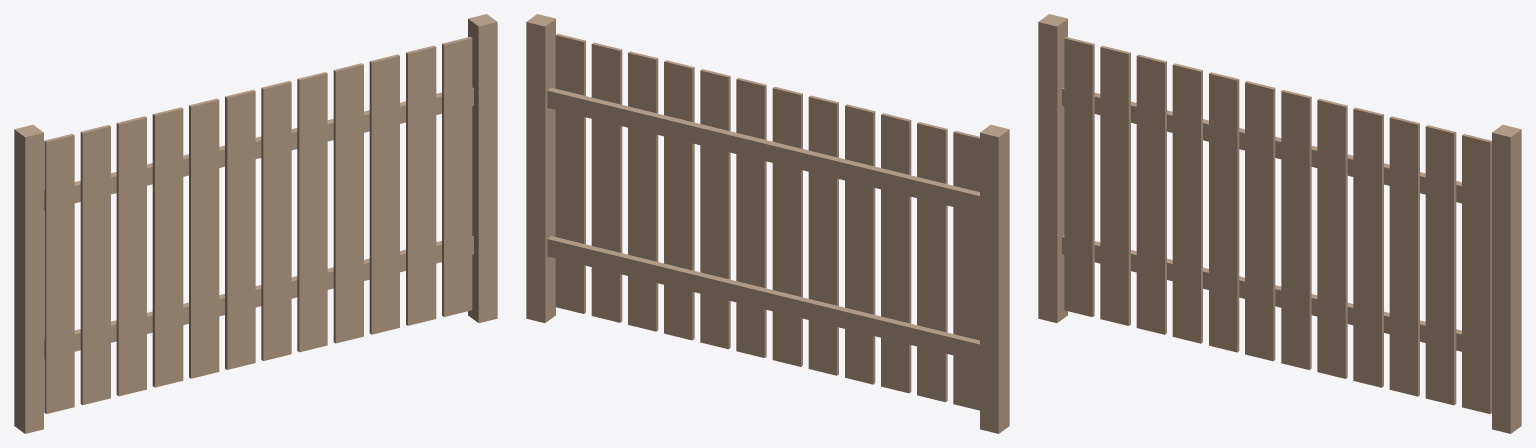
Rendered from fence-panel.glb.
3 renders of one model, left to right at view 1: azimuth 30°, elevation 25°; view 2: azimuth 150°, elevation 25°; view 3: azimuth 330°, elevation 25°, orthographic.
Visible parts, largest first — view 1: Board (×12), Post (×2), Rail (×2); view 2: Board (×12), Rail (×2), Post (×2); view 3: Board (×12), Post (×2), Rail (×2).
Boxes of the visible parts, x1=… form: Board (×12): x1=44, y1=36, x2=472, y2=413; Post (×2): x1=14, y1=14, x2=497, y2=433; Rail (×2): x1=44, y1=87, x2=473, y2=358; Board (×12): x1=555, y1=34, x2=979, y2=410; Rail (×2): x1=547, y1=87, x2=979, y2=361; Post (×2): x1=526, y1=14, x2=1009, y2=433; Board (×12): x1=1064, y1=37, x2=1491, y2=413; Post (×2): x1=1038, y1=14, x2=1521, y2=433; Rail (×2): x1=1062, y1=87, x2=1461, y2=351.
Size of the model in its own units: 2 by 1.2 by 0.08.
